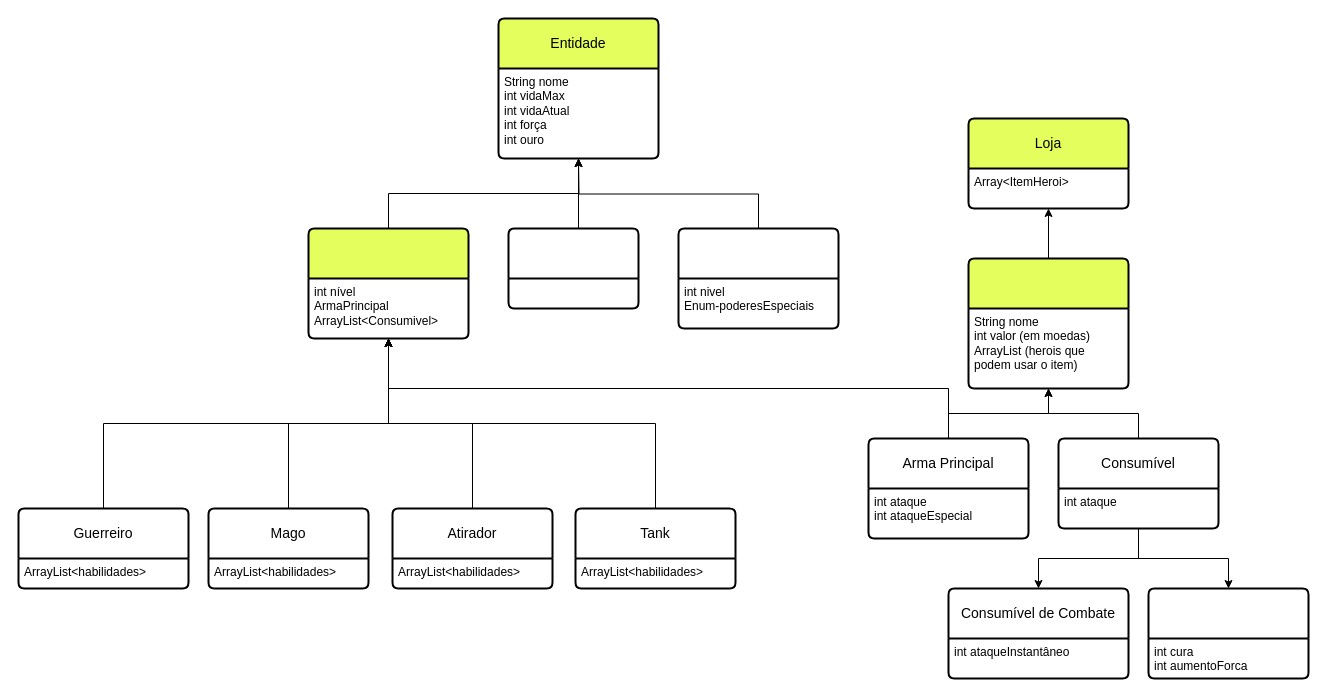
This 1326x696 diagram has some shape labels left out. Each missing label, with the box of its shape:
Boss: (677, 227, 839, 329)
Heroi: (307, 227, 469, 339)
Item Heroi: (967, 257, 1129, 389)
NPC: (507, 227, 639, 309)
Poção: (1147, 587, 1309, 679)
